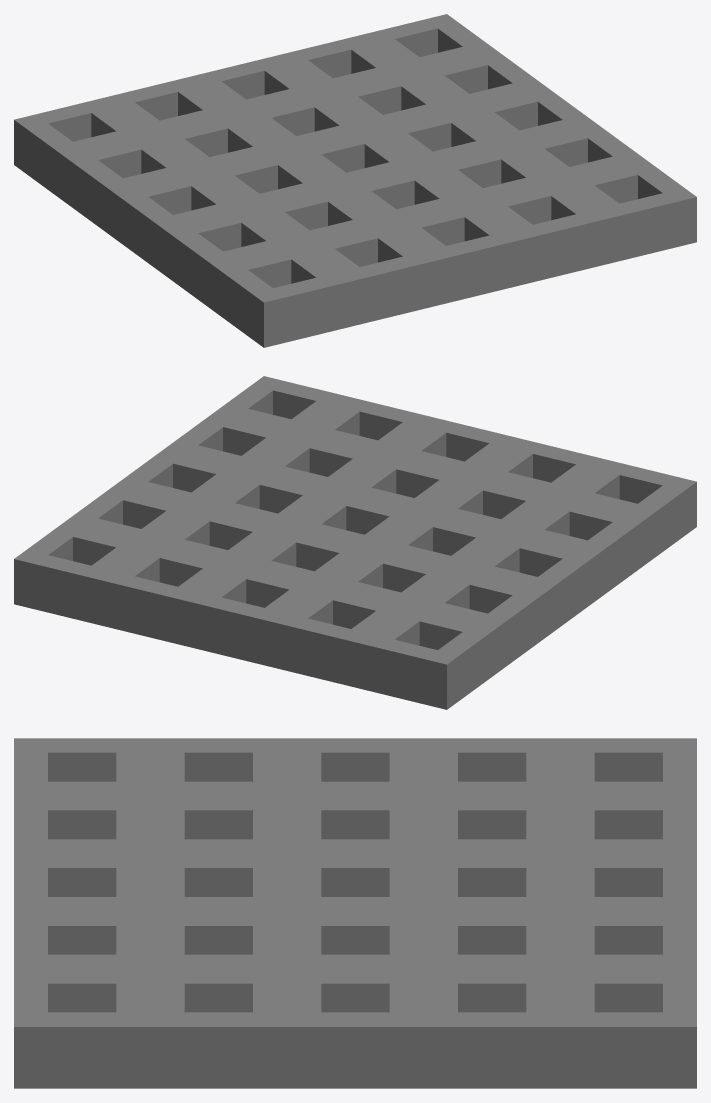
The model's file is SM_TrapNeedleFloor.fbx.
3 renders of one model, top to bottom at view 1: azimuth 30°, elevation 25°; view 2: azimuth 150°, elevation 25°; view 3: azimuth 270°, elevation 25°, orthographic. The views are drawn at different scales.
Parts seen in each view (by area): view 1: FloorNeedleFoundation; view 2: FloorNeedleFoundation; view 3: FloorNeedleFoundation.
Boxes of the visible parts, x1=… form: FloorNeedleFoundation: x1=14, y1=14, x2=696, y2=347; FloorNeedleFoundation: x1=14, y1=376, x2=696, y2=709; FloorNeedleFoundation: x1=14, y1=738, x2=696, y2=1088.
Bounding box in the file's own units: 100 × 10 × 100.
1 material, 1 textured.
